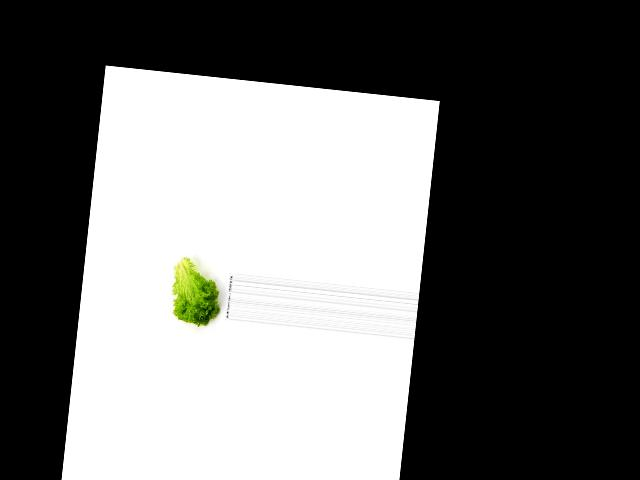lettuce: (166, 256, 224, 330)
